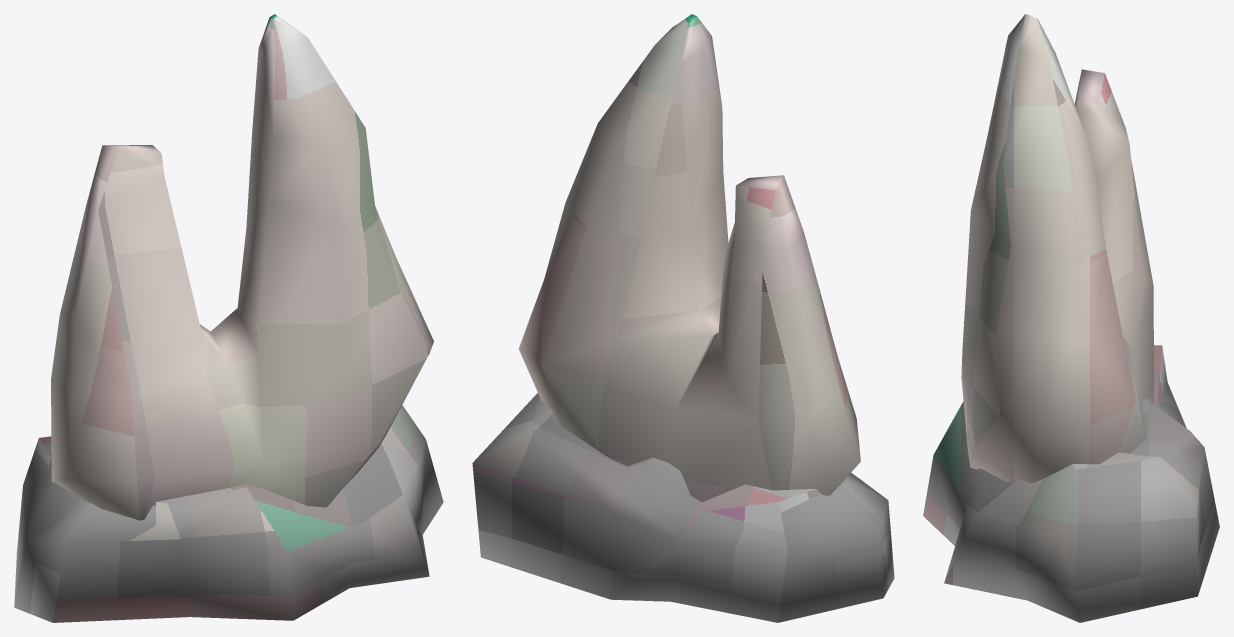
File: a_com_house_a01_ore01_white.gltf
The picture shows the model from 3 angles, left to right: view 1: azimuth 30°, elevation 25°; view 2: azimuth 150°, elevation 25°; view 3: azimuth 270°, elevation 25°; orthographic projection. The views are drawn at different scales.
Visible parts, largest first — view 1: a_com_house_a01_ore01_mesh2_shape:a_com_house_a01_ore01_01; view 2: a_com_house_a01_ore01_mesh2_shape:a_com_house_a01_ore01_01; view 3: a_com_house_a01_ore01_mesh2_shape:a_com_house_a01_ore01_01.
Part boxes in pixels (x1=…): a_com_house_a01_ore01_mesh2_shape:a_com_house_a01_ore01_01: x1=14, y1=14, x2=443, y2=622; a_com_house_a01_ore01_mesh2_shape:a_com_house_a01_ore01_01: x1=472, y1=14, x2=894, y2=622; a_com_house_a01_ore01_mesh2_shape:a_com_house_a01_ore01_01: x1=923, y1=14, x2=1219, y2=622.
Bounding box in the file's own units: 0.2503 × 0.3085 × 0.1598.
Materials: 1 (1 with a texture image).
